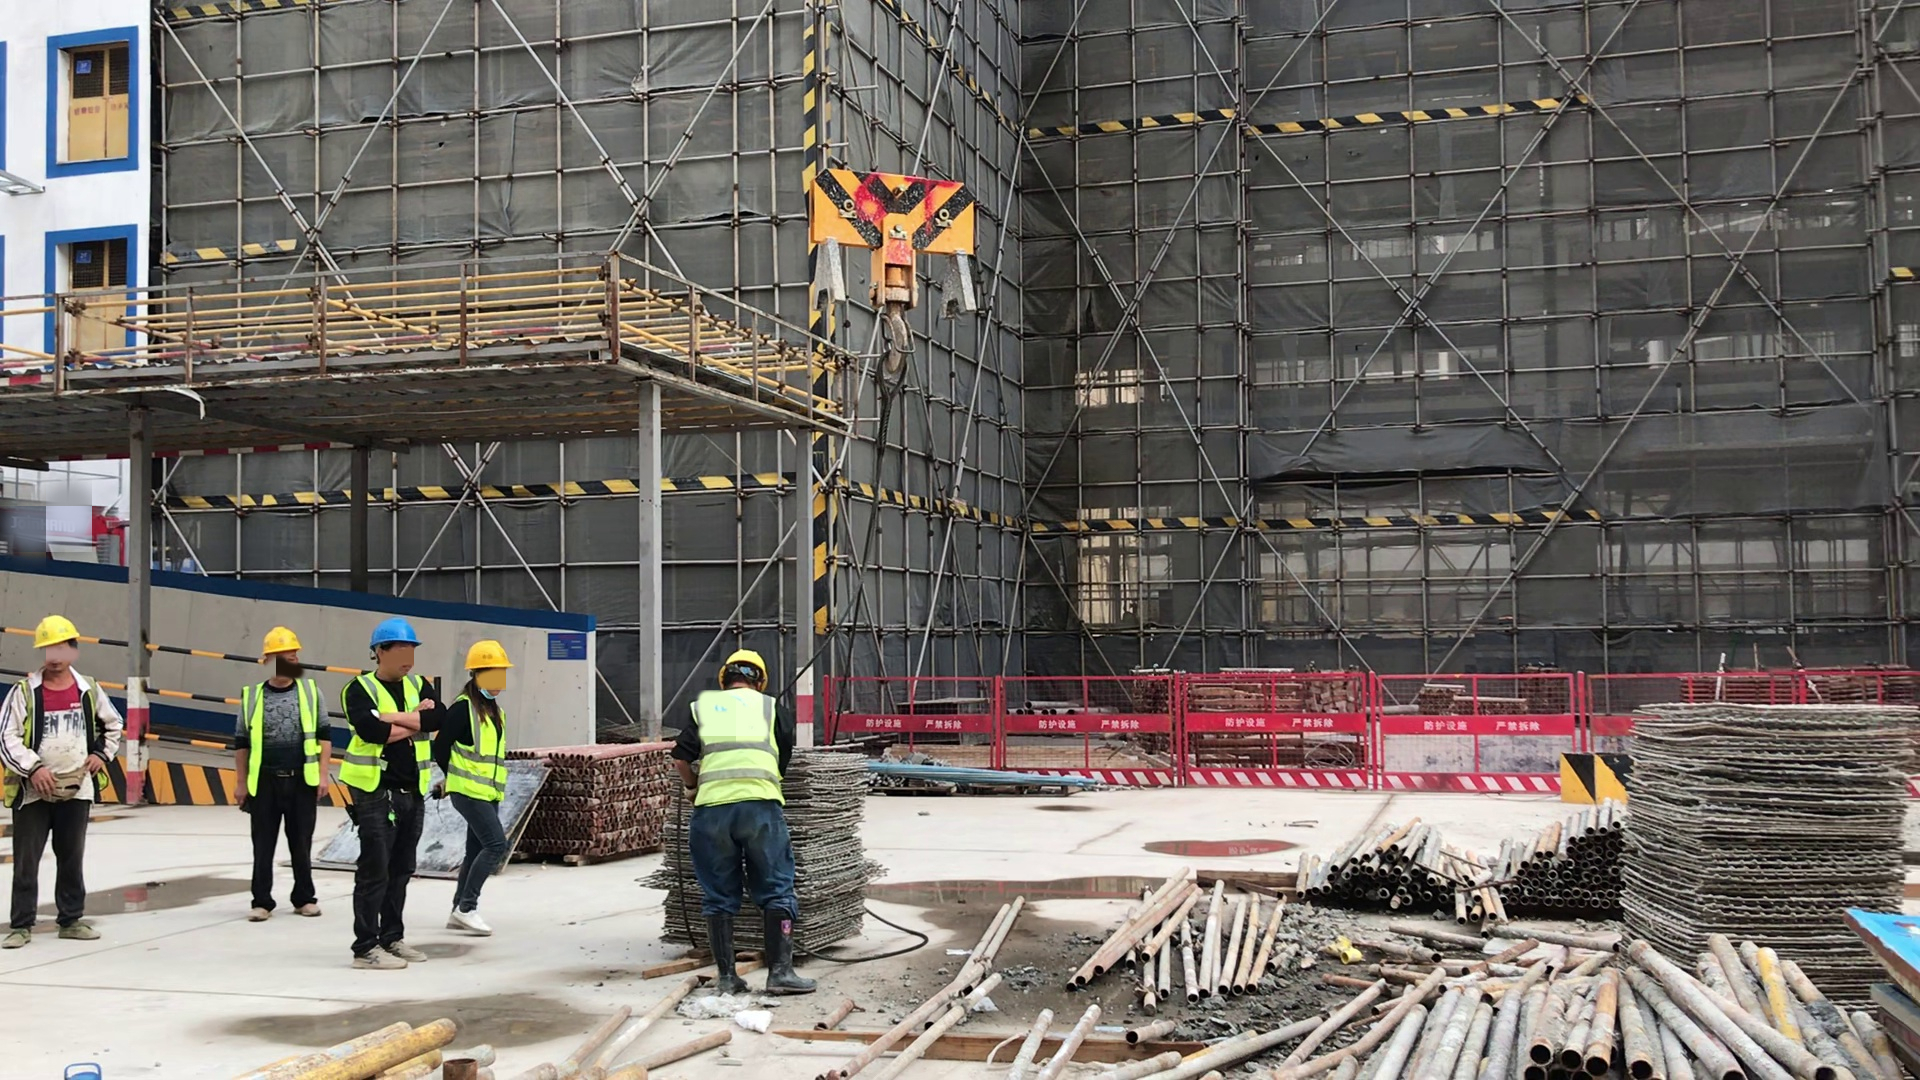fence: (828, 677, 1920, 792)
helmet: (719, 649, 766, 689), (33, 615, 79, 649), (371, 619, 422, 647), (465, 640, 512, 668), (262, 628, 302, 653)
hook: (805, 165, 978, 373)
person: (679, 651, 820, 997), (8, 614, 115, 947), (340, 618, 440, 970), (233, 628, 328, 920), (442, 641, 513, 935)
scaffold: (511, 743, 670, 860)
vest: (335, 679, 429, 788), (688, 689, 781, 799), (242, 679, 320, 793), (447, 699, 509, 804)
